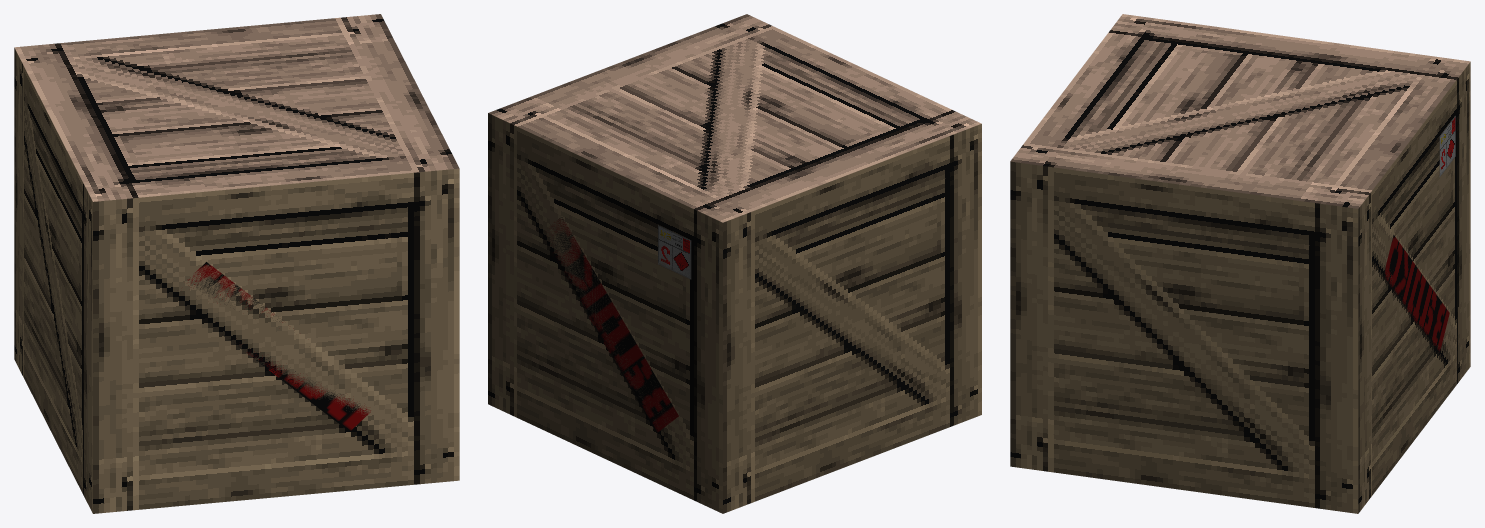
Rendered from primary_060.glb.
3 renders of one model, left to right at view 1: azimuth 30°, elevation 25°; view 2: azimuth 150°, elevation 25°; view 3: azimuth 270°, elevation 25°, orthographic. The views are drawn at different scales.
Visible parts, largest first — view 1: Object; view 2: Object; view 3: Object.
Boxes of the visible parts, x1,y1,x2,y2 form: Object: (14,14,459,513); Object: (488,14,981,513); Object: (1010,14,1470,513).
Bounding box in the file's own units: 1.75 × 1.28 × 1.75.
Materials: 7 (7 with a texture image).
